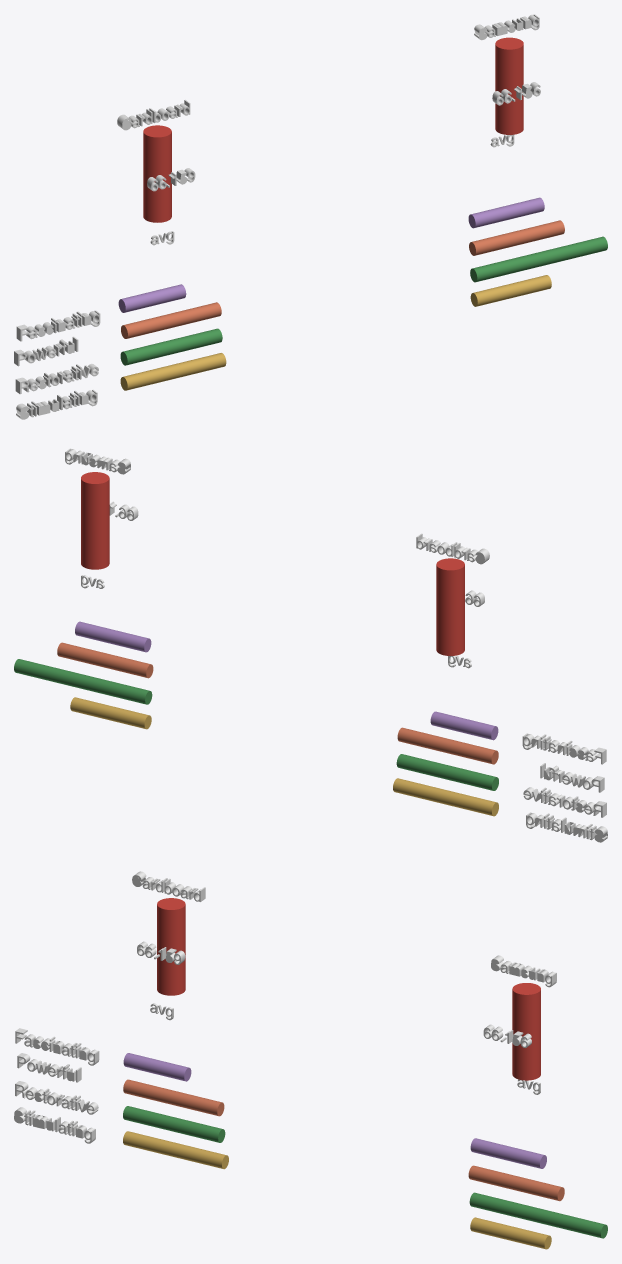
The model's file is mosul.fbx.
3 renders of one model, top to bottom at view 1: azimuth 30°, elevation 25°; view 2: azimuth 150°, elevation 25°; view 3: azimuth 330°, elevation 25°, orthographic.
Visible parts, largest first — view 1: Cylinder, Cylinder_1, Cylinder_11, Cylinder_9, Cylinder_8, Cylinder_7, Cylinder_13, Cylinder_10, Cylinder_12, Cylinder_6; view 2: Cylinder, Cylinder_1, Cylinder_11, Cylinder_9, Cylinder_8, Cylinder_7, Cylinder_13, Cylinder_10, Cylinder_12, Cylinder_6; view 3: Cylinder_1, Cylinder, Cylinder_11, Cylinder_9, Cylinder_8, Cylinder_7, Cylinder_13, Cylinder_10, Cylinder_12, Cylinder_6.
Part boxes in pixels (x1,y1,x2,y2): Cylinder: (143,125,171,222); Cylinder_1: (495,37,523,134); Cylinder_11: (470,236,607,282); Cylinder_9: (120,353,226,390); Cylinder_8: (120,328,222,365); Cylinder_7: (121,302,221,338); Cylinder_13: (469,220,564,255); Cylinder_10: (470,275,551,306); Cylinder_12: (468,197,544,228); Cylinder_6: (118,284,186,312); Cylinder: (436,558,464,655); Cylinder_1: (81,472,109,569); Cylinder_11: (14,659,152,704); Cylinder_9: (393,778,498,816); Cylinder_8: (396,754,498,790); Cylinder_7: (397,727,498,764); Cylinder_13: (57,642,153,678); Cylinder_10: (70,697,151,729); Cylinder_12: (75,621,151,652); Cylinder_6: (430,711,498,740); Cylinder_1: (512,983,540,1080); Cylinder: (157,898,185,995); Cylinder_11: (469,1192,607,1238); Cylinder_9: (123,1131,228,1169); Cylinder_8: (123,1106,225,1142); Cylinder_7: (123,1079,224,1116); Cylinder_13: (468,1165,564,1201); Cylinder_10: (470,1217,551,1249); Cylinder_12: (470,1138,546,1168); Cylinder_6: (123,1053,191,1081).
Size of the model in its own units: 476 by 213 by 31.39.
